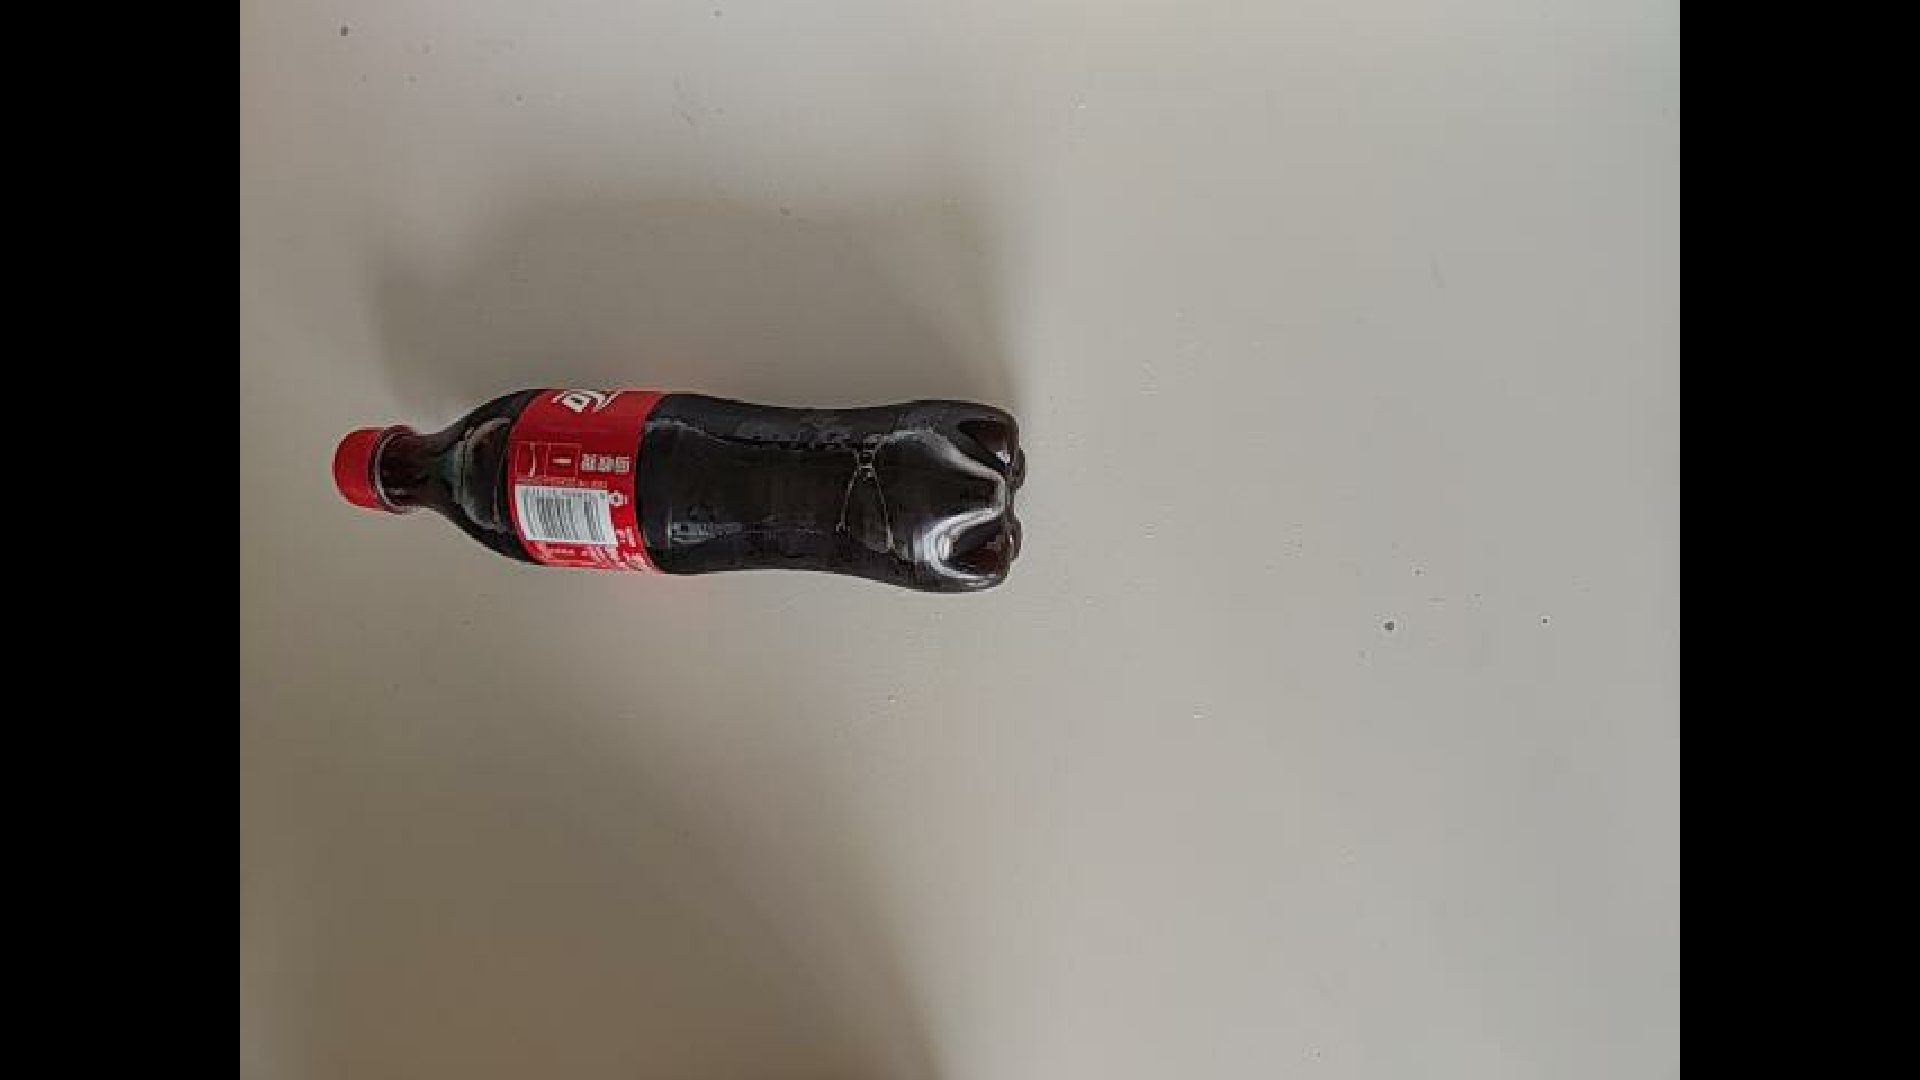cola: (316, 361, 1034, 583)
